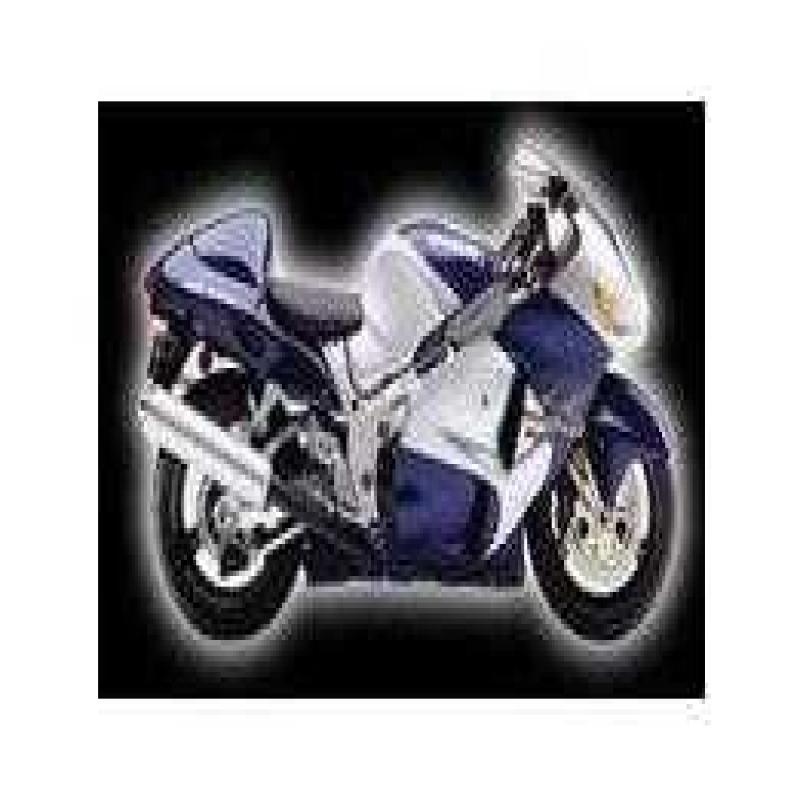bike: (131, 115, 673, 671)
